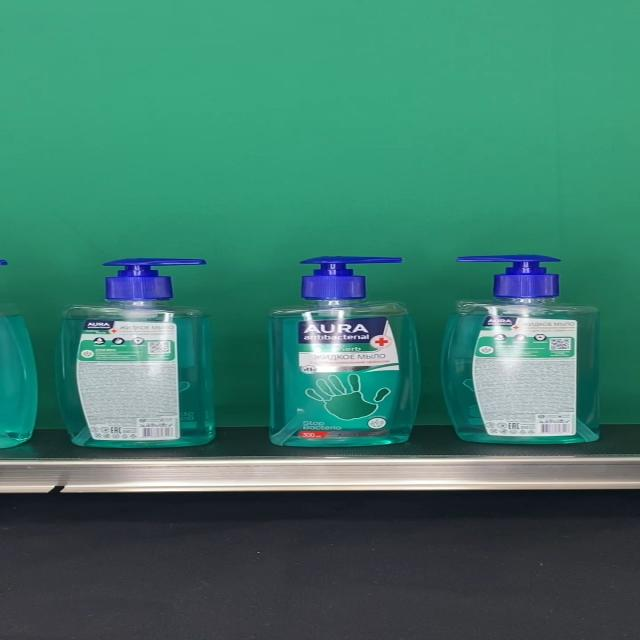Bottle: (53, 258, 217, 449), (439, 255, 600, 445), (267, 257, 422, 447)
Cap: (454, 255, 560, 298), (300, 257, 405, 300), (104, 258, 207, 300)
